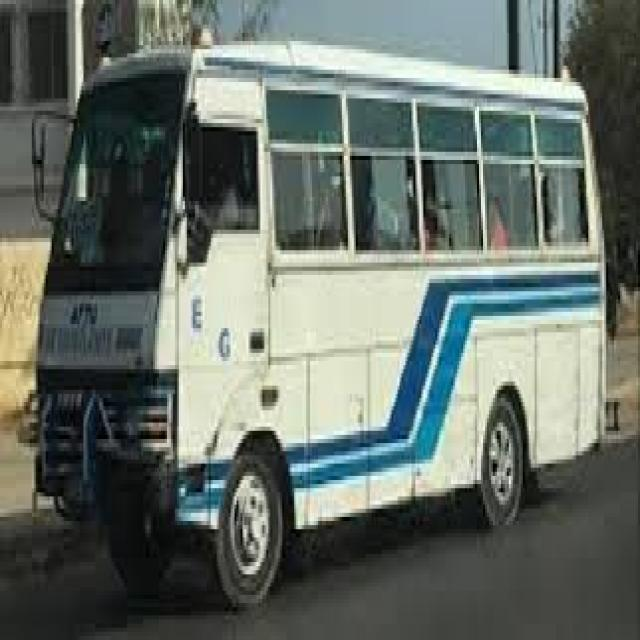bus tata: (41, 45, 605, 605)
